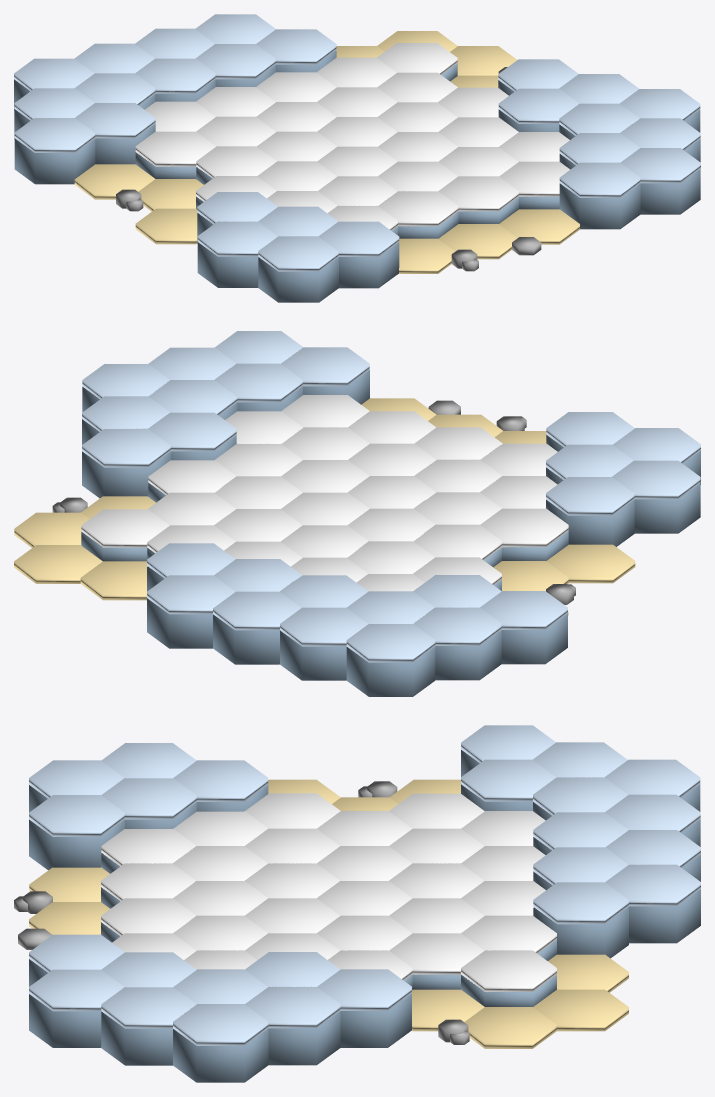
The model's file is Island_winter.glb.
3 renders of one model, top to bottom at view 1: azimuth 30°, elevation 25°; view 2: azimuth 150°, elevation 25°; view 3: azimuth 270°, elevation 25°, orthographic. The views are drawn at different scales.
Parts seen in each view (by area): view 1: Cylinder.162, Cylinder.230, Cylinder.157, Cylinder.232, Cylinder.214, Cylinder.209, Cylinder.219, Cylinder.179, Cylinder.213, Cylinder.208, Cylinder.211, Cylinder.201 (+68 smaller); view 2: Cylinder.155, Cylinder.207, Cylinder.220, Cylinder.212, Cylinder.224, Cylinder.232, Cylinder.206, Cylinder.211, Cylinder.216, Cylinder.219, Cylinder.202, Cylinder.203 (+65 smaller); view 3: Cylinder.169, Cylinder.200, Cylinder.213, Cylinder.170, Cylinder.221, Cylinder.226, Cylinder.227, Cylinder.231, Cylinder.202, Cylinder.208, Cylinder.218, Cylinder.210 (+64 smaller).
Part boxes in pixels (x1,y1,x2,y2): Cylinder.162: [258, 257, 338, 302]; Cylinder.230: [559, 183, 640, 229]; Cylinder.157: [14, 138, 95, 184]; Cylinder.232: [559, 162, 640, 197]; Cylinder.214: [258, 236, 338, 271]; Cylinder.209: [14, 118, 95, 152]; Cylinder.219: [498, 88, 579, 123]; Cylinder.179: [135, 131, 215, 166]; Cylinder.213: [318, 221, 399, 256]; Cylinder.208: [75, 103, 155, 138]; Cylinder.211: [197, 221, 277, 256]; Cylinder.201: [135, 58, 215, 93]; Cylinder.155: [346, 647, 435, 696]; Cylinder.207: [346, 624, 435, 662]; Cylinder.220: [82, 428, 170, 467]; Cylinder.212: [546, 477, 634, 515]; Cylinder.224: [547, 544, 635, 583]; Cylinder.232: [281, 347, 369, 386]; Cylinder.206: [280, 607, 368, 646]; Cylinder.211: [612, 460, 700, 499]; Cylinder.216: [214, 363, 302, 402]; Cylinder.219: [148, 412, 236, 451]; Cylinder.202: [147, 575, 235, 614]; Cylinder.203: [213, 591, 301, 630]; Cylinder.169: [173, 1028, 268, 1082]; Cylinder.200: [533, 882, 628, 924]; Cylinder.213: [29, 795, 124, 836]; Cylinder.170: [461, 950, 556, 992]; Cylinder.221: [173, 1004, 268, 1045]; Cylinder.226: [464, 1007, 556, 1048]; Cylinder.227: [533, 989, 628, 1031]; Cylinder.231: [29, 969, 124, 1011]; Cylinder.202: [605, 864, 700, 906]; Cylinder.208: [461, 759, 556, 801]; Cylinder.218: [245, 986, 340, 1028]; Cylinder.210: [101, 778, 196, 819].
Bounding box in the file's own units: 93.07 × 6.29 × 86.05.
